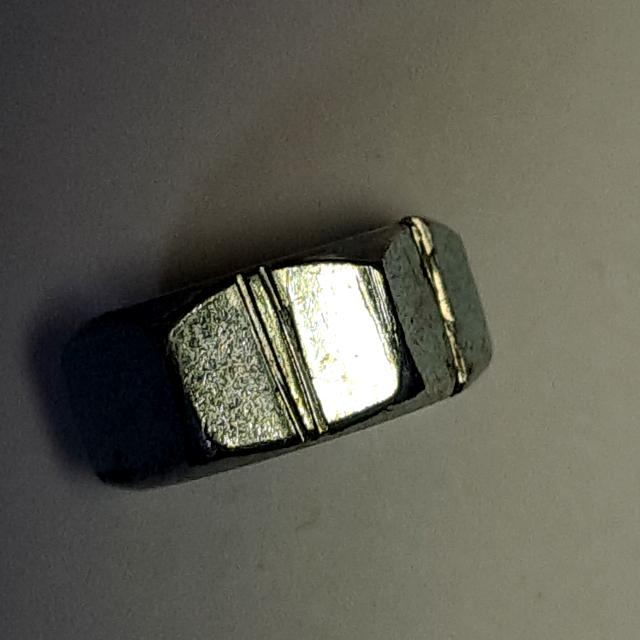Side_Scratches: (51, 196, 505, 508)
